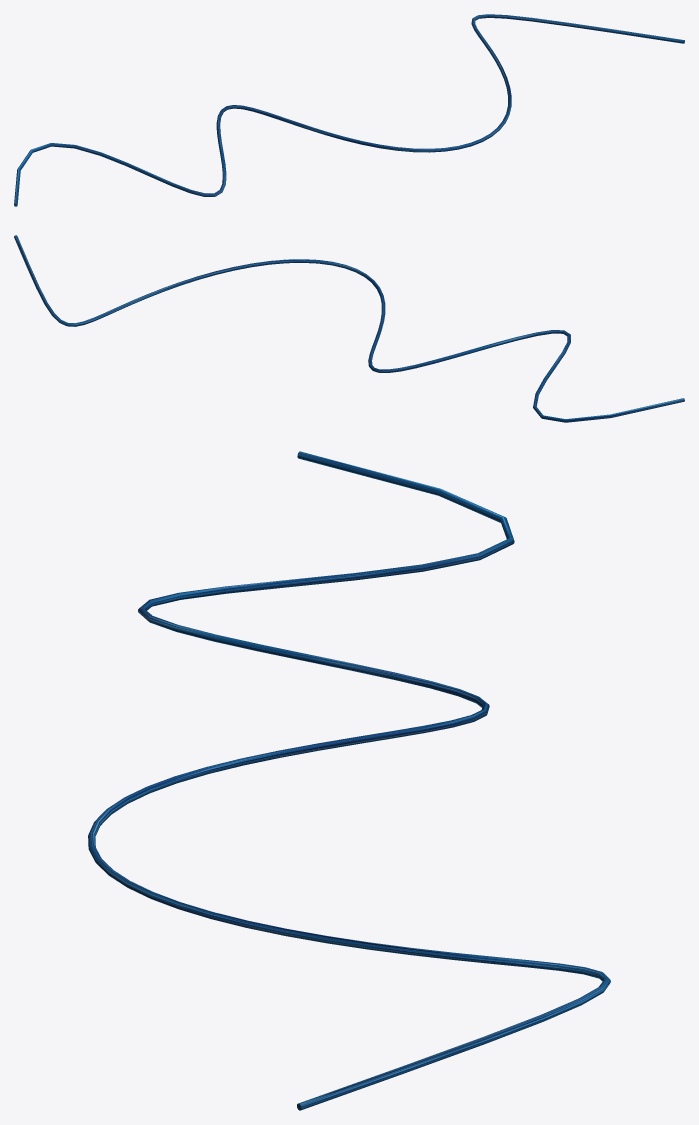
The model's file is rope_1.dae.
3 renders of one model, top to bottom at view 1: azimuth 30°, elevation 25°; view 2: azimuth 150°, elevation 25°; view 3: azimuth 270°, elevation 25°, orthographic. The views are drawn at different scales.
Visible parts, largest first — view 1: NurbsPath; view 2: NurbsPath; view 3: NurbsPath.
Boxes of the visible parts, x1,y1,x2,y2 form: NurbsPath: [14, 14, 684, 206]; NurbsPath: [14, 235, 684, 422]; NurbsPath: [88, 451, 610, 1110].
Bounding box in the file's own units: 25.1 × 8.47 × 0.12.
